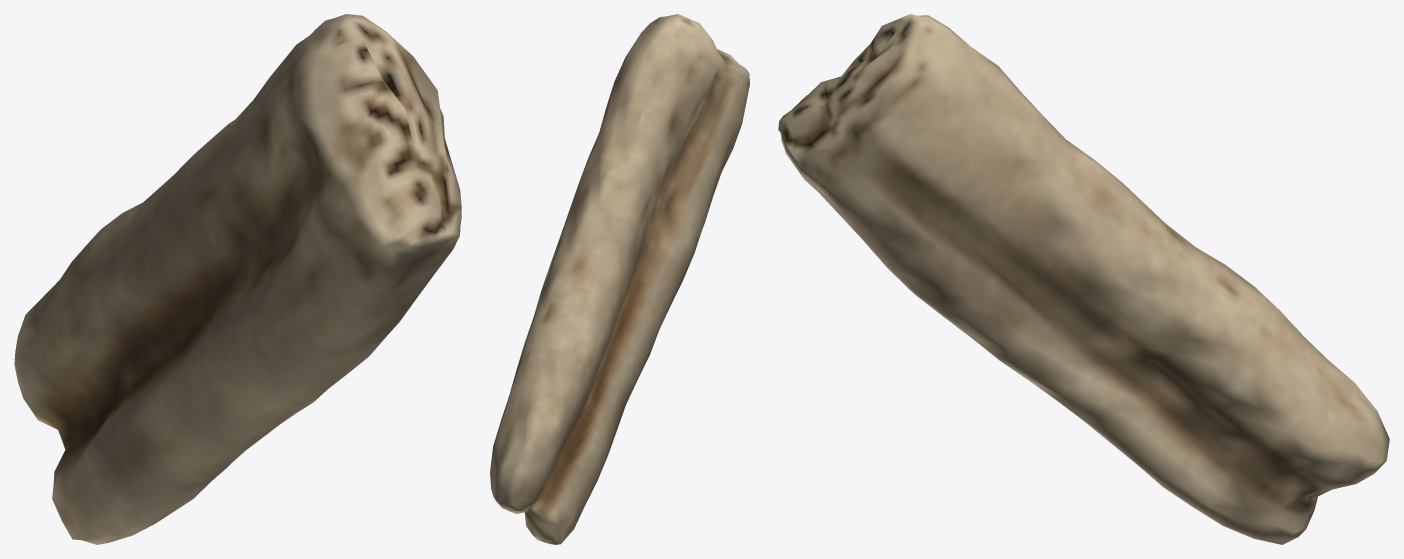
The model's file is Mandibular_Molar4.glb.
3 renders of one model, left to right at view 1: azimuth 30°, elevation 25°; view 2: azimuth 150°, elevation 25°; view 3: azimuth 270°, elevation 25°, orthographic. The views are drawn at different scales.
Parts seen in each view (by area): view 1: Mandibular_Molar4.glb; view 2: Mandibular_Molar4.glb; view 3: Mandibular_Molar4.glb.
Boxes of the visible parts, box(x1,y1,x2,y2) form: Mandibular_Molar4.glb: box(14, 14, 461, 544); Mandibular_Molar4.glb: box(490, 14, 749, 544); Mandibular_Molar4.glb: box(778, 14, 1389, 544).
Bounding box in the file's own units: 0.0169 × 0.0735 × 0.0755.
1 material, 1 textured.
